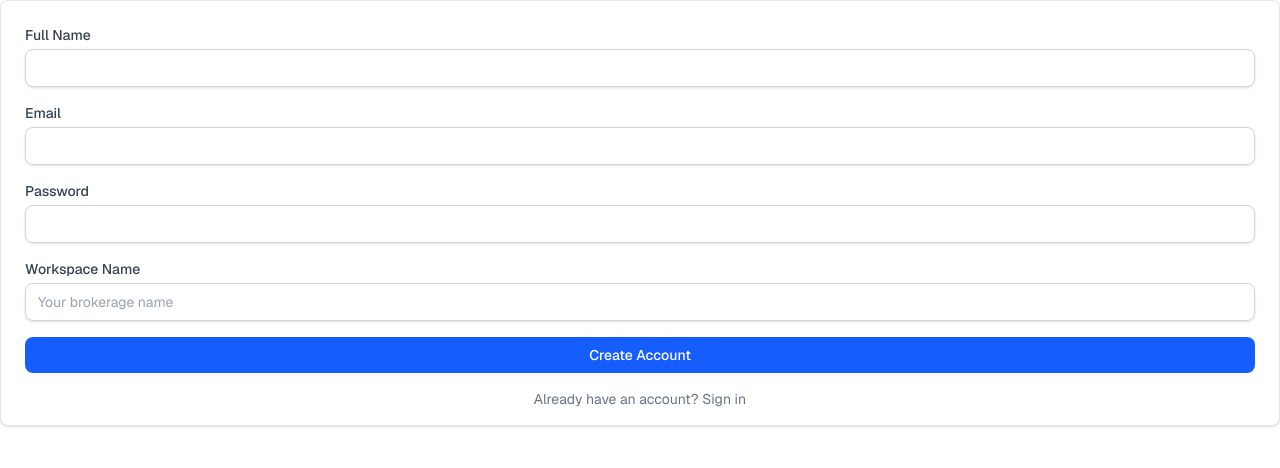
Test: RegisterForm › shows email taken error on 409 conflict
Step 1. Type "John Doe" into the field labelled "Full Name" → (640, 68), box [25, 49, 1255, 87]
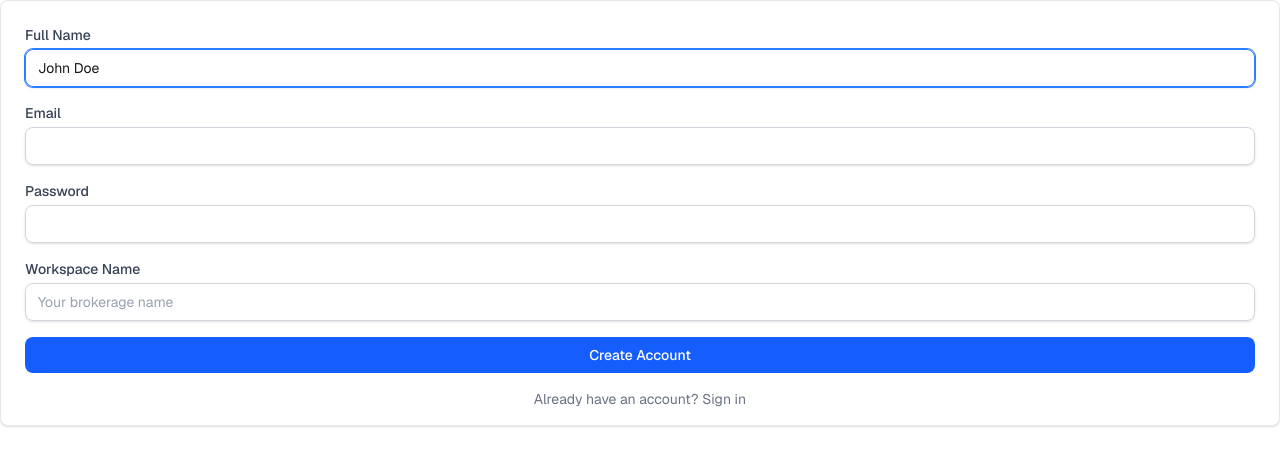
Step 2. Type "taken@example.com" into the field labelled "Email" → (640, 146), box [25, 127, 1255, 165]
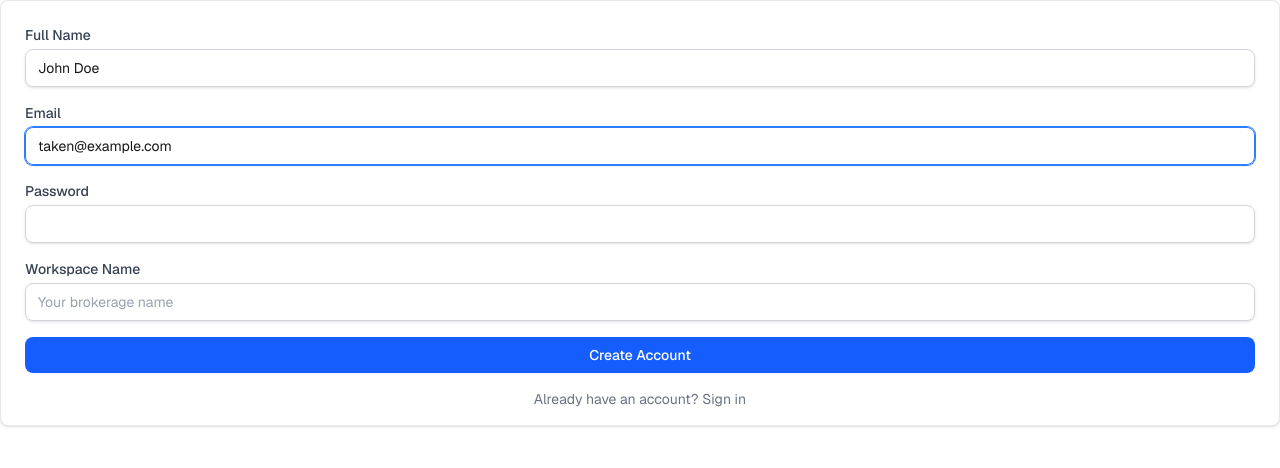
Step 3. Type "StrongPass1!" into the password field labelled "Password" → (640, 224), box [25, 205, 1255, 243]
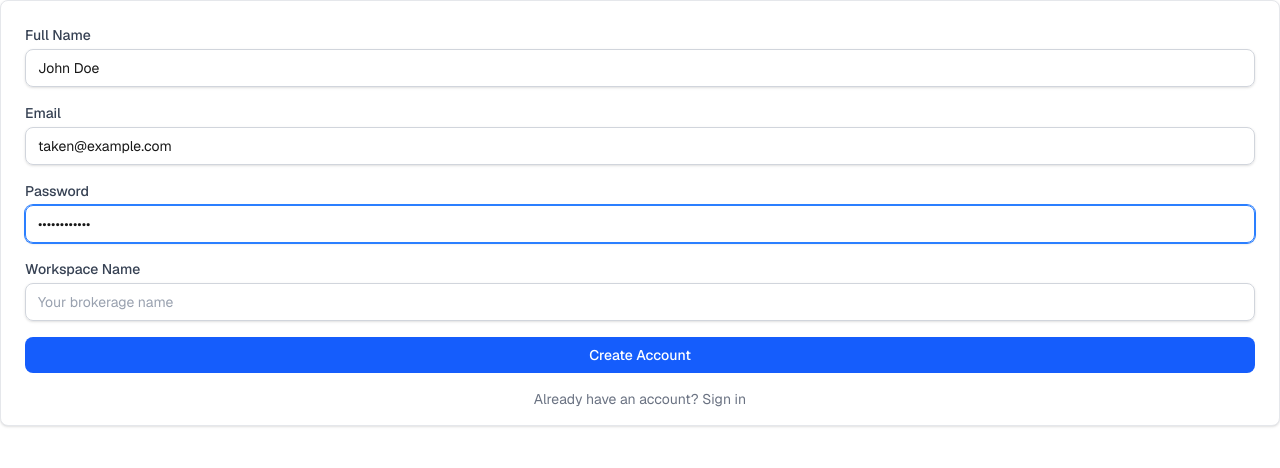
Step 4. Type "My Brokerage" into the field labelled "Workspace Name" → (640, 302), box [25, 283, 1255, 321]
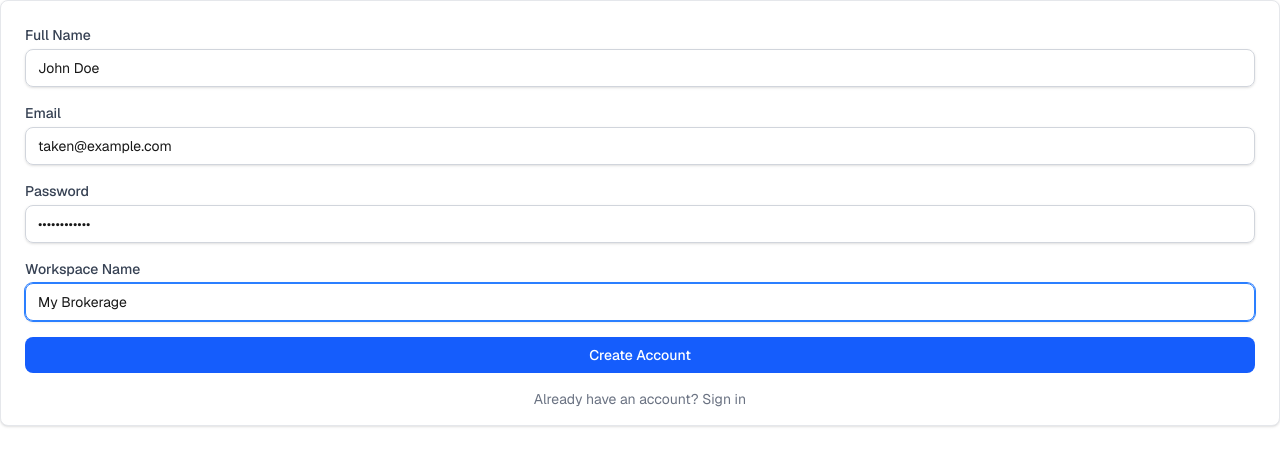
Step 5. Click the button "Create Account" → (640, 355), box [25, 337, 1255, 373]
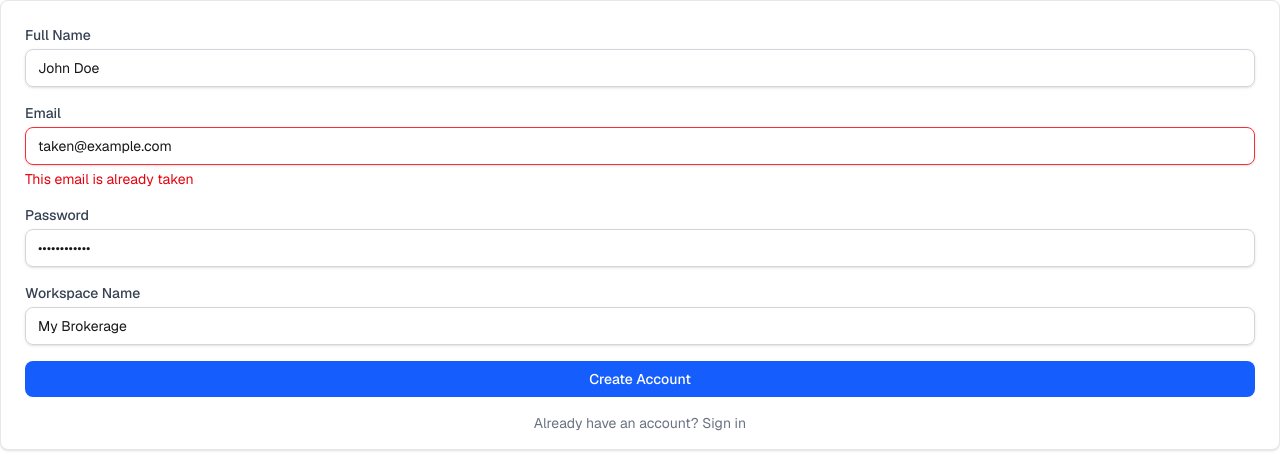
expect the text "This email is already taken" is shown: met, box [25, 170, 194, 188]
